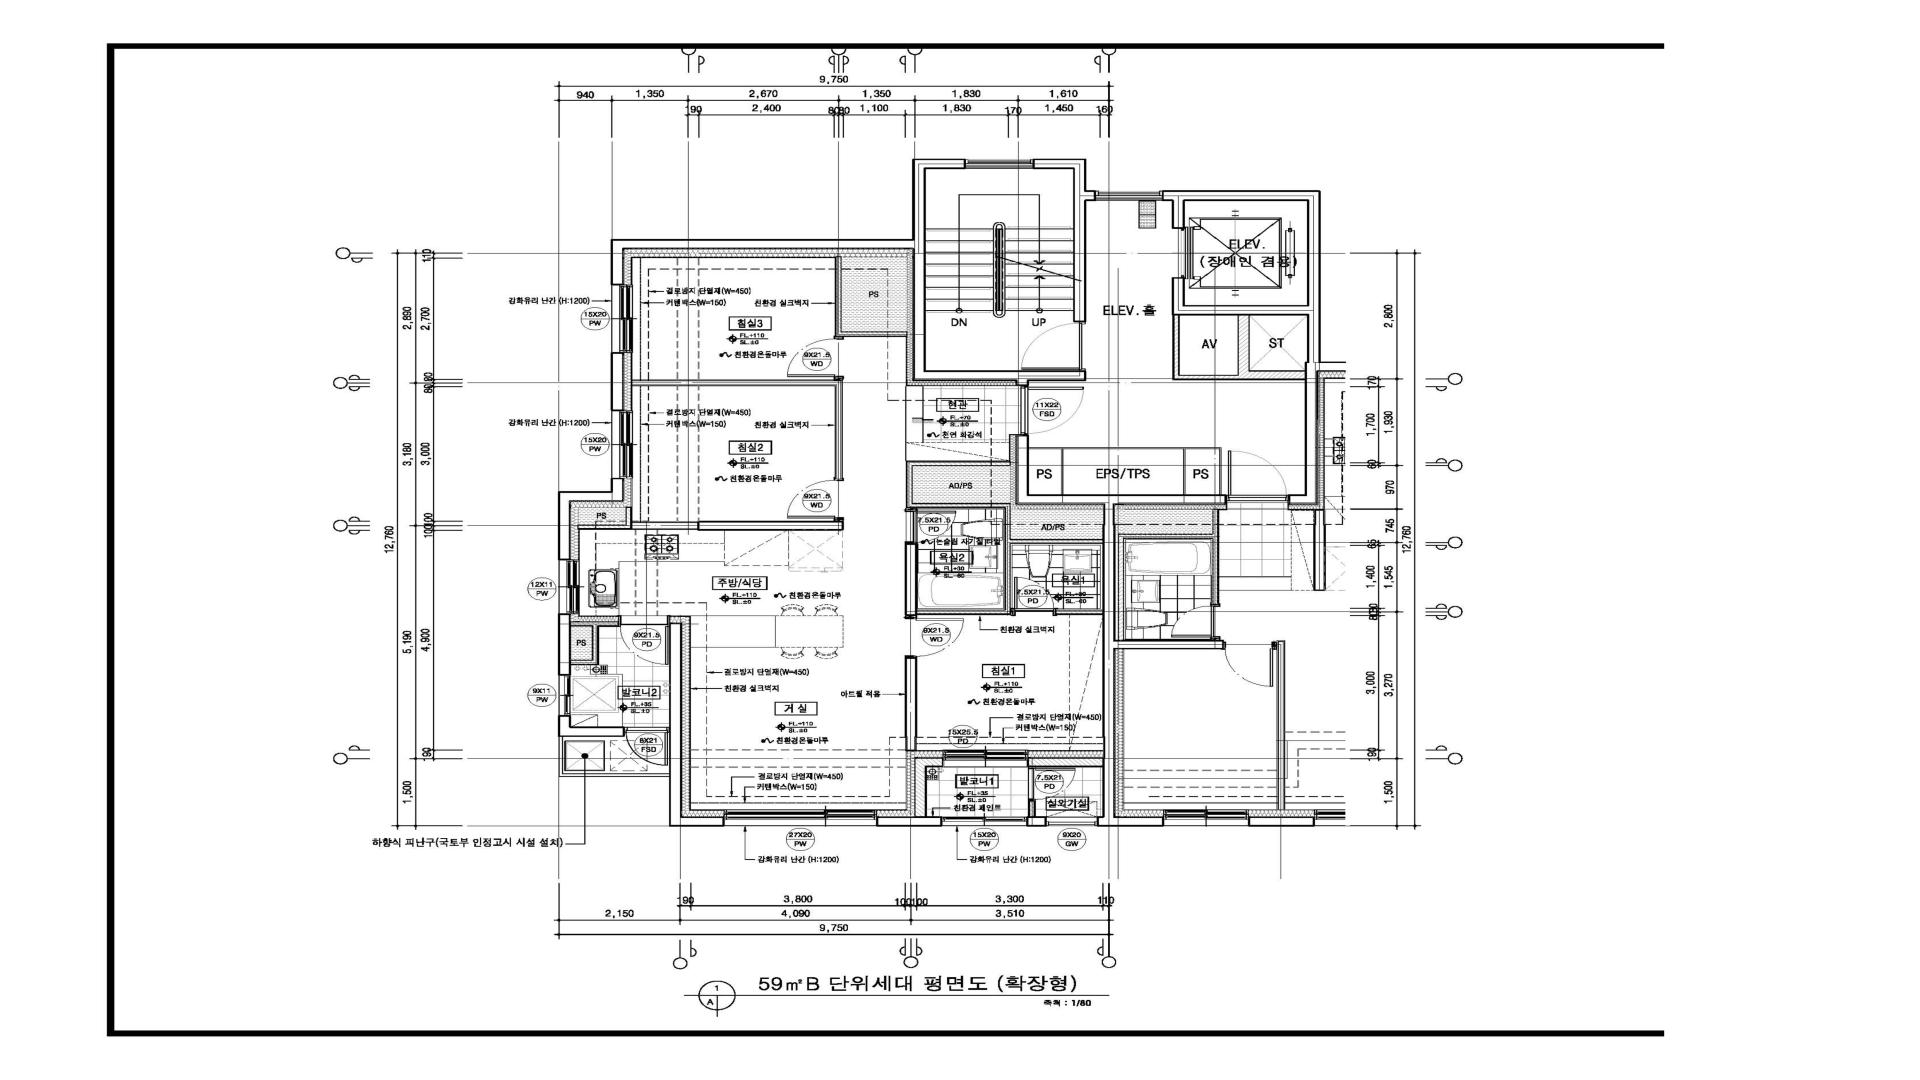background: (0, 0, 1920, 1080)
door: (1018, 385, 1085, 434), (1019, 322, 1087, 371), (787, 336, 844, 380), (905, 616, 964, 657), (787, 479, 844, 521), (905, 508, 957, 543), (624, 727, 669, 766), (1011, 578, 1056, 616)
wall: (1098, 505, 1116, 827), (1073, 170, 1096, 322), (611, 239, 913, 249), (913, 169, 926, 381), (669, 622, 682, 816), (1307, 190, 1321, 361), (926, 371, 1087, 385), (1304, 361, 1321, 495), (1015, 495, 1226, 505), (1162, 190, 1307, 202), (698, 521, 844, 531), (1171, 305, 1307, 315), (905, 657, 918, 750), (1179, 371, 1305, 380), (696, 380, 843, 386), (905, 543, 918, 615), (558, 613, 571, 675), (1015, 434, 1029, 495), (611, 352, 624, 411), (558, 501, 571, 560), (1029, 757, 1102, 767), (835, 386, 843, 479), (1004, 504, 1010, 609), (877, 816, 942, 827), (906, 502, 1004, 509), (1033, 158, 1087, 170), (669, 816, 724, 827), (1238, 315, 1249, 371), (911, 158, 965, 169), (558, 492, 611, 502), (571, 727, 624, 737), (611, 248, 625, 285), (835, 256, 841, 336), (913, 460, 1010, 465), (1172, 315, 1180, 380), (1029, 447, 1221, 450), (916, 609, 1011, 615), (1010, 539, 1102, 545), (563, 773, 670, 777), (1171, 277, 1185, 305), (1171, 200, 1184, 228), (1287, 495, 1320, 505), (841, 331, 907, 336), (611, 479, 624, 502), (558, 715, 571, 737), (571, 525, 624, 530), (906, 460, 913, 502), (592, 626, 599, 665), (1027, 816, 1046, 827), (571, 620, 599, 626), (616, 502, 624, 525), (559, 737, 563, 777), (571, 659, 592, 666), (1183, 450, 1185, 495), (1062, 450, 1063, 495), (1220, 450, 1221, 495)
window: (723, 810, 877, 827), (611, 285, 633, 352), (611, 411, 633, 477), (943, 750, 1029, 767), (559, 559, 579, 613), (942, 816, 1027, 827), (1046, 816, 1098, 829), (965, 160, 1033, 169), (1096, 191, 1162, 200), (558, 675, 571, 715)
